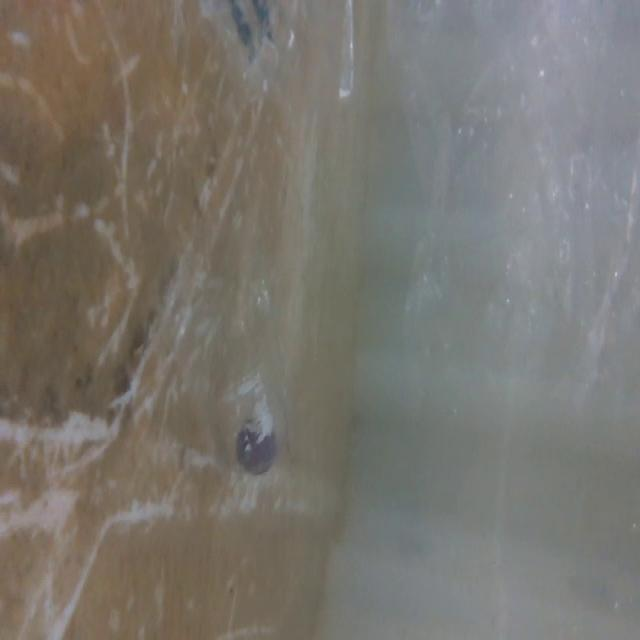plastic bags: (383, 0, 640, 423), (162, 0, 370, 137)
plastic bottle: (188, 256, 321, 494)
